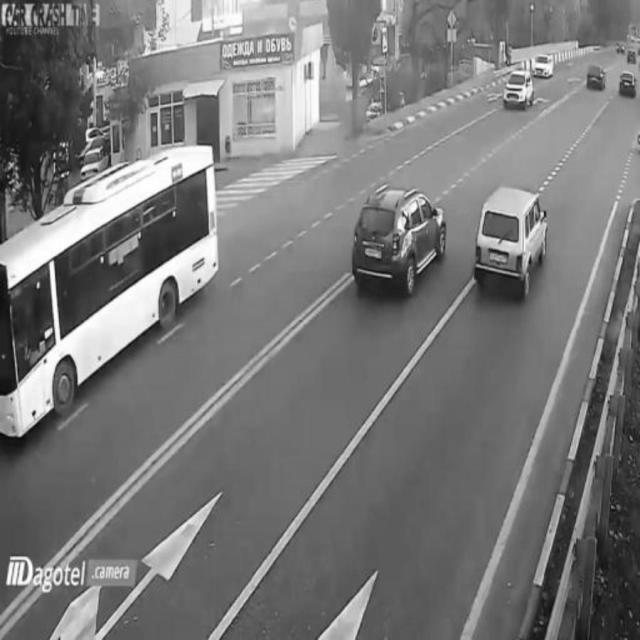vehicle: (3, 152, 219, 376), (349, 176, 445, 294), (471, 180, 545, 298), (506, 65, 532, 107), (530, 50, 558, 85), (616, 63, 638, 103), (584, 56, 606, 93)
